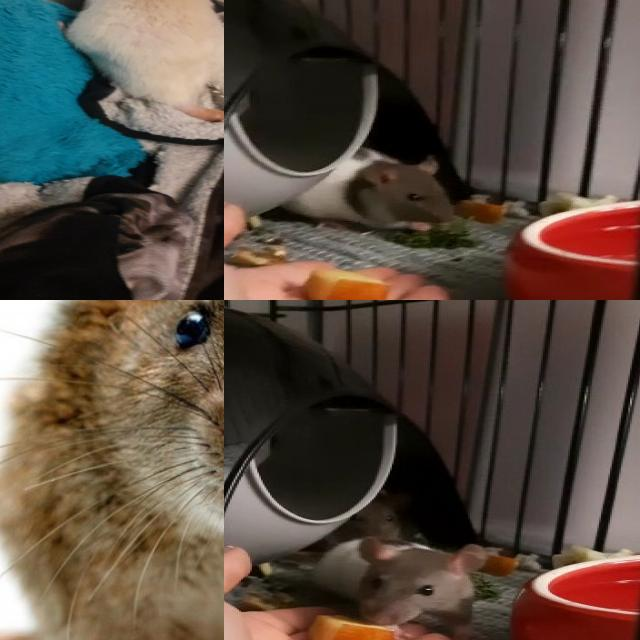rat: (0, 300, 224, 640), (309, 537, 489, 640), (68, 0, 224, 106), (282, 149, 448, 233)
